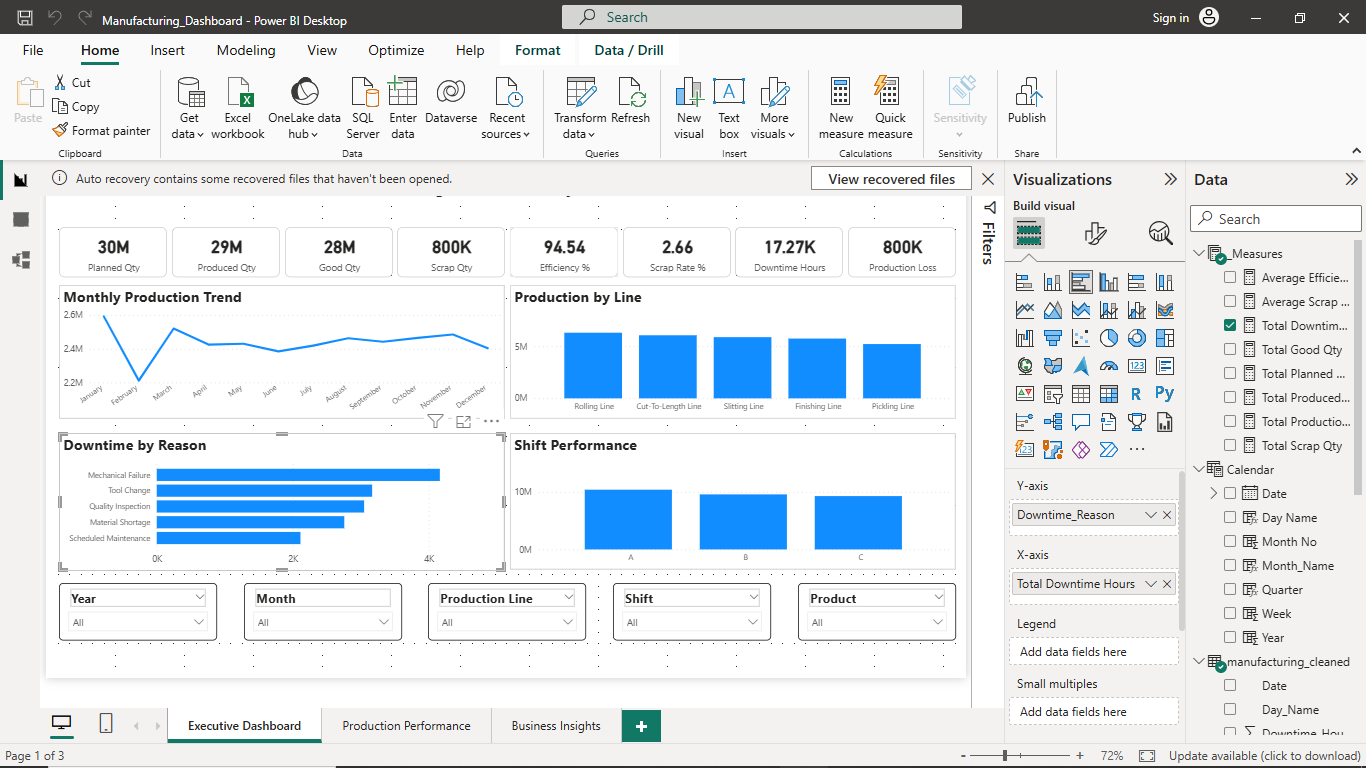

The page's visual inventory and layout, read from the dashboard file:
{"tool":"powerbi","page":{"name":"Executive Dashboard","canvas":[1280,720],"ordinal":0},"visuals":[{"type":"card","fields":{"Values":["_Measures.Total Planned Qty"]},"box":[18.6,92.9,150,70],"z":0},{"type":"card","fields":{"Values":["_Measures.Total Produced Qty"]},"box":[175.3,92.9,150,70],"z":1000},{"type":"card","fields":{"Values":["_Measures.Total Good Qty"]},"box":[332,92.9,150,70],"z":2000},{"type":"card","fields":{"Values":["_Measures.Total Scrap Qty"]},"box":[488.8,92.9,150,70],"z":3000},{"type":"card","fields":{"Values":["_Measures.Average Efficiency %"]},"box":[645.5,92.9,150,70],"z":4000},{"type":"card","fields":{"Values":["_Measures.Average Scrap Rate %"]},"box":[802.2,92.9,150,70],"z":5000},{"type":"card","fields":{"Values":["_Measures.Total Downtime Hours"]},"box":[959,92.9,150,70],"z":6000},{"type":"card","fields":{"Values":["_Measures.Total Production Loss"]},"box":[1115.7,92.9,150,70],"z":7000},{"type":"textbox","box":[396.4,20,487.1,40],"z":8000},{"type":"lineChart","title":"Monthly Production Trend","fields":{"Category":["Calendar.Month_Name"],"Y":["_Measures.Total Produced Qty"]},"box":[18.6,174.3,620,185.7],"z":9000},{"type":"clusteredColumnChart","title":"Production by Line","fields":{"Category":["manufacturing_cleaned.Production_Line"],"Y":["_Measures.Total Produced Qty"]},"box":[645.7,174.3,620,185.7],"z":10000},{"type":"clusteredBarChart","title":"Downtime by Reason","fields":{"Y":["_Measures.Total Downtime Hours"],"Category":["manufacturing_cleaned.Downtime_Reason"]},"box":[18.7,380,620,192],"z":11000},{"type":"clusteredColumnChart","title":"Shift Performance","fields":{"Category":["manufacturing_cleaned.Shift"],"Y":["_Measures.Total Produced Qty"]},"box":[645.7,380,620,190],"z":12000},{"type":"slicer","fields":{"Values":["Calendar.Year"]},"box":[18.6,588.6,220,80],"z":13000},{"type":"slicer","fields":{"Values":["Calendar.Month_Name"]},"box":[275.4,588.6,220,80],"z":14000},{"type":"slicer","fields":{"Values":["manufacturing_cleaned.Production_Line"]},"box":[532.1,588.6,220,80],"z":15000},{"type":"slicer","fields":{"Values":["manufacturing_cleaned.Shift"]},"box":[788.9,588.6,220,80],"z":16000},{"type":"slicer","fields":{"Values":["manufacturing_cleaned.Product"]},"box":[1045.7,588.6,220,80],"z":17000}]}

Visuals, with their boxes on the page's 1280x720 design canvas (x1, y1, x2, y2). These are canvas units, not pixel positions in the 1366x768 screenshot, which may show the page scaled, cropped or inside an application window:
card - _Measures.Total Planned Qty: x1=19, y1=93, x2=169, y2=163
card - _Measures.Total Produced Qty: x1=175, y1=93, x2=325, y2=163
card - _Measures.Total Good Qty: x1=332, y1=93, x2=482, y2=163
card - _Measures.Total Scrap Qty: x1=489, y1=93, x2=639, y2=163
card - _Measures.Average Efficiency %: x1=646, y1=93, x2=796, y2=163
card - _Measures.Average Scrap Rate %: x1=802, y1=93, x2=952, y2=163
card - _Measures.Total Downtime Hours: x1=959, y1=93, x2=1109, y2=163
card - _Measures.Total Production Loss: x1=1116, y1=93, x2=1266, y2=163
textbox: x1=396, y1=20, x2=884, y2=60
"Monthly Production Trend" lineChart: x1=19, y1=174, x2=639, y2=360
"Production by Line" clusteredColumnChart: x1=646, y1=174, x2=1266, y2=360
"Downtime by Reason" clusteredBarChart: x1=19, y1=380, x2=639, y2=572
"Shift Performance" clusteredColumnChart: x1=646, y1=380, x2=1266, y2=570
slicer - Calendar.Year: x1=19, y1=589, x2=239, y2=669
slicer - Calendar.Month_Name: x1=275, y1=589, x2=495, y2=669
slicer - manufacturing_cleaned.Production_Line: x1=532, y1=589, x2=752, y2=669
slicer - manufacturing_cleaned.Shift: x1=789, y1=589, x2=1009, y2=669
slicer - manufacturing_cleaned.Product: x1=1046, y1=589, x2=1266, y2=669
